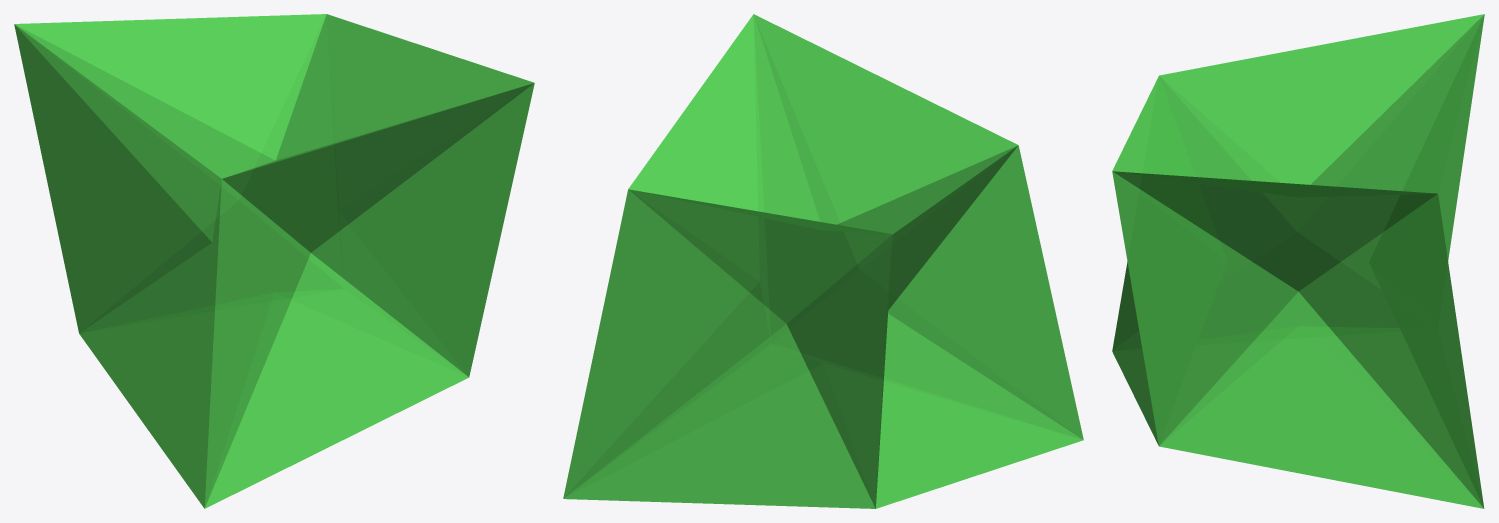
Rendered from HexakisTetrahedron_n21.obj.
3 renders of one model, left to right at view 1: azimuth 30°, elevation 25°; view 2: azimuth 150°, elevation 25°; view 3: azimuth 270°, elevation 25°, orthographic. The views are drawn at different scales.
Size of the model in its own units: 7.35 by 7.35 by 7.35.
